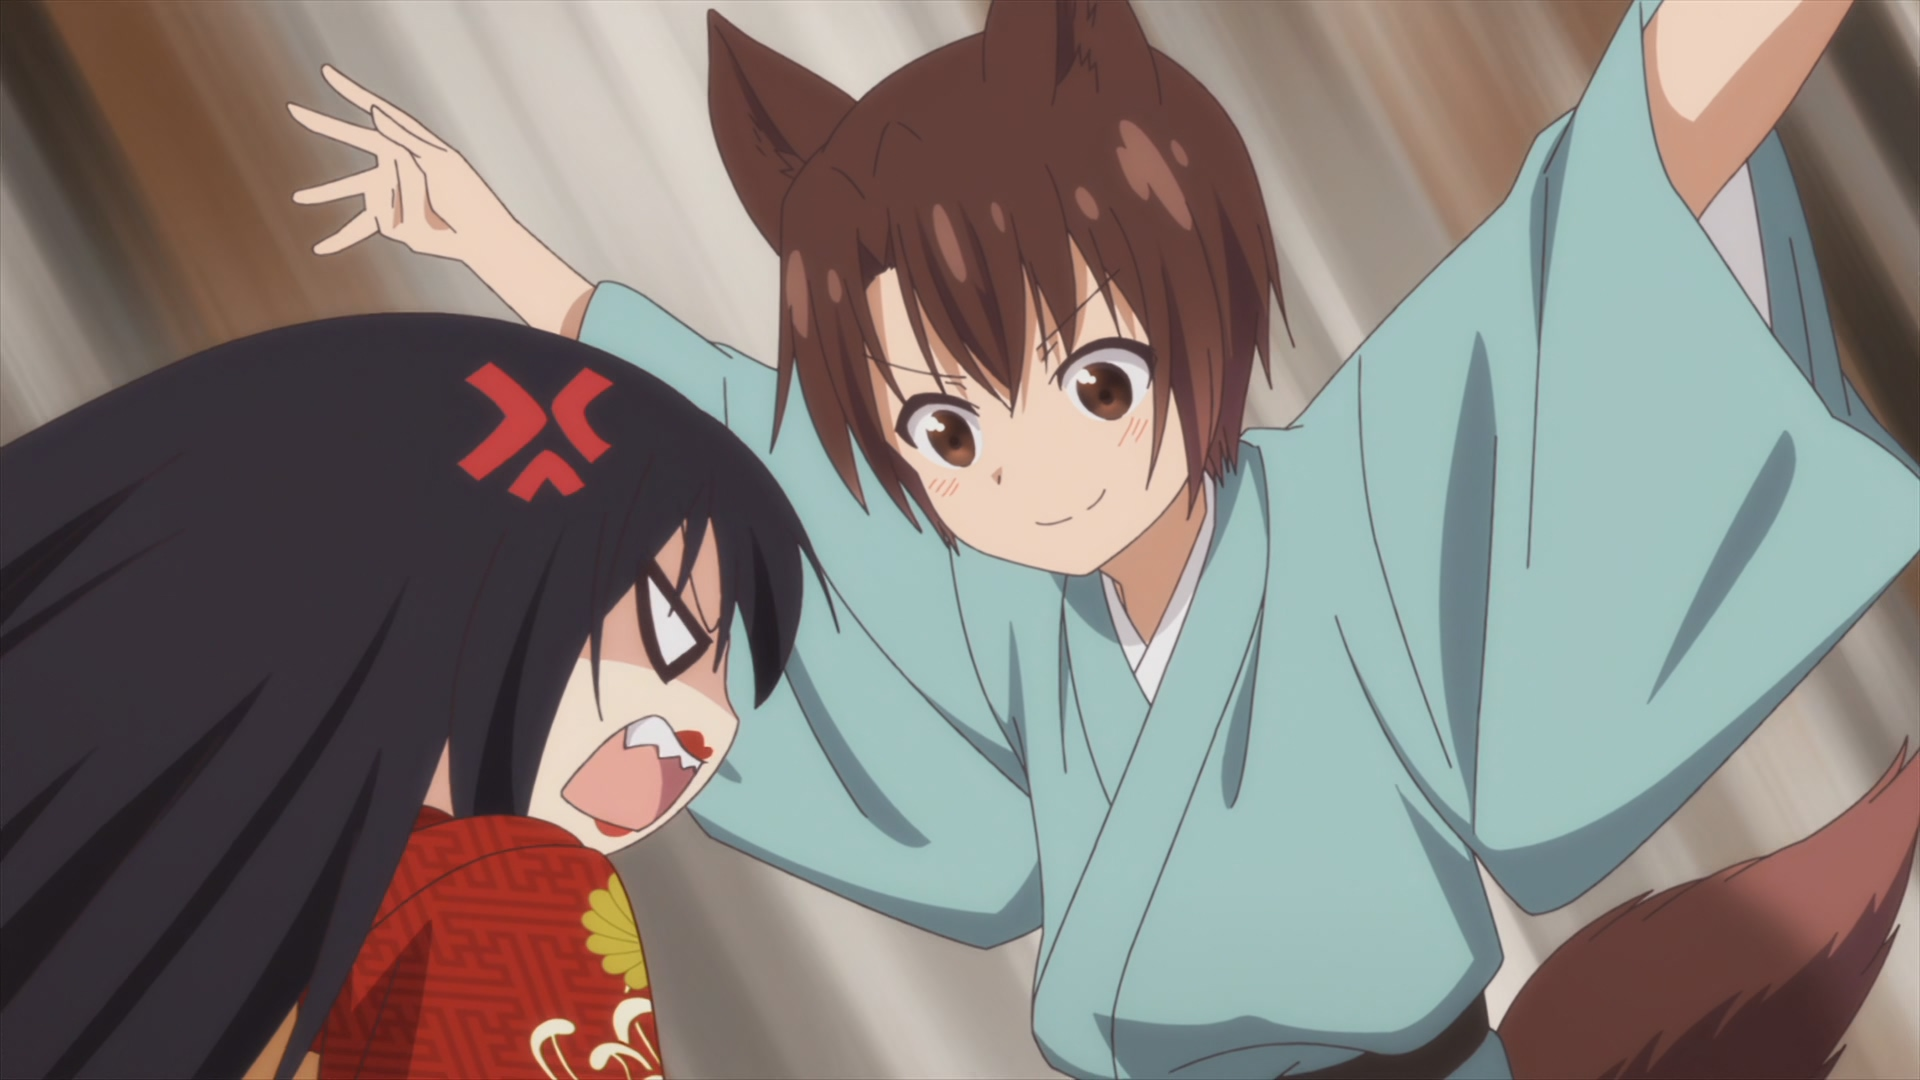枣: (289, 1, 1920, 1080)
阿菊: (1, 311, 839, 1080)
